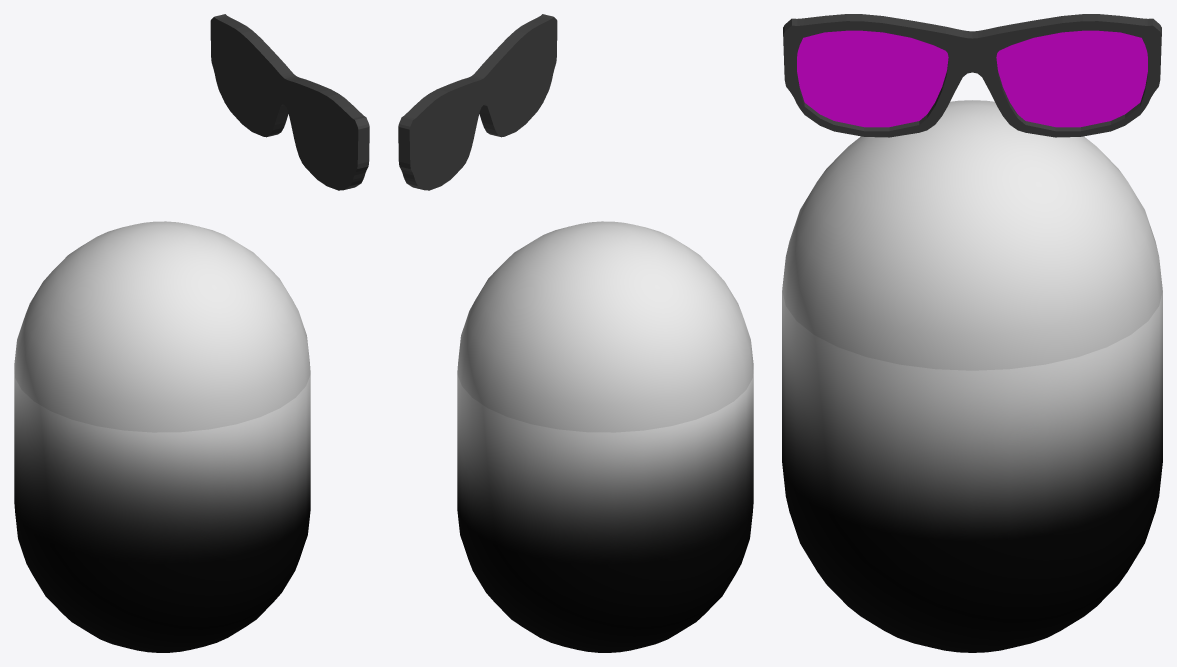
File: PillIdle.fbx
The picture shows the model from 3 angles, left to right: view 1: azimuth 30°, elevation 25°; view 2: azimuth 150°, elevation 25°; view 3: azimuth 270°, elevation 25°; orthographic projection. The views are drawn at different scales.
Parts seen in each view (by area): view 1: Pill, Glasses; view 2: Pill, Glasses; view 3: Pill, Glasses.
Part boxes in pixels (x1=…): Pill: x1=14, y1=221, x2=310, y2=652; Glasses: x1=210, y1=14, x2=369, y2=190; Pill: x1=457, y1=221, x2=753, y2=652; Glasses: x1=398, y1=14, x2=557, y2=190; Pill: x1=782, y1=100, x2=1162, y2=652; Glasses: x1=783, y1=14, x2=1161, y2=137.
Size of the model in its own units: 204 by 404 by 200.
